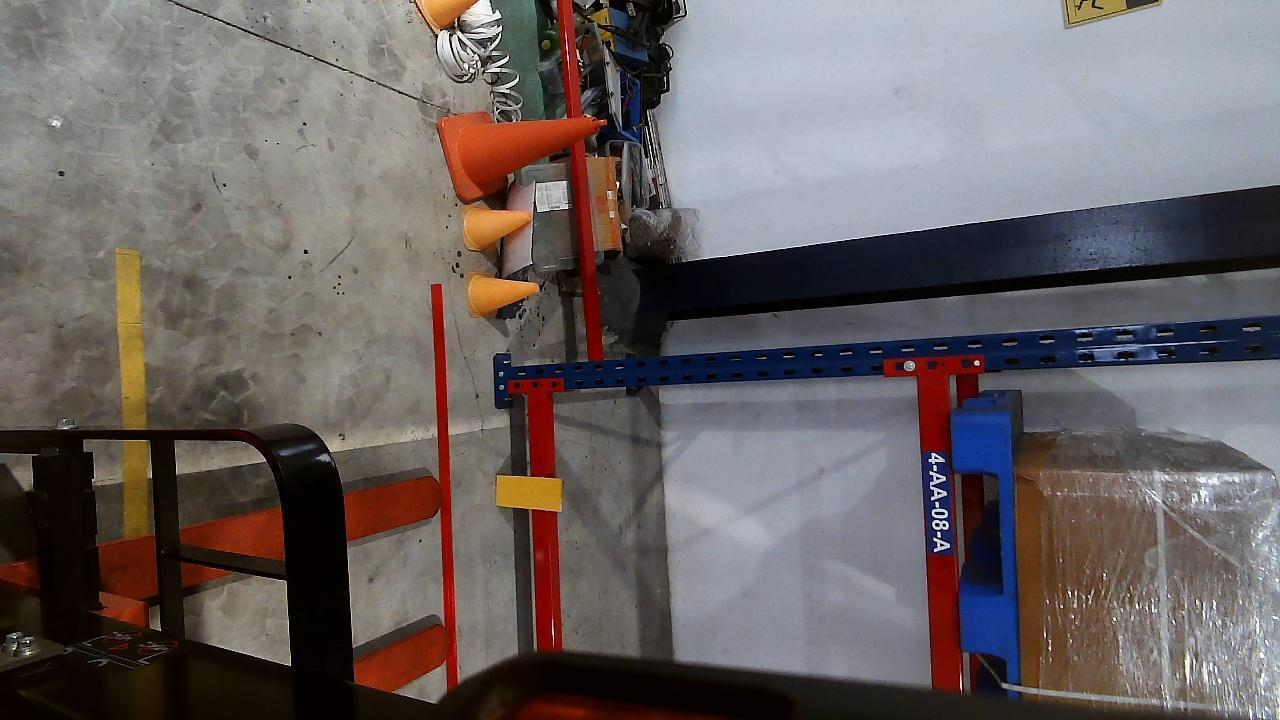red_line: (426, 281, 462, 690)
yellow_line: (114, 249, 146, 428)
